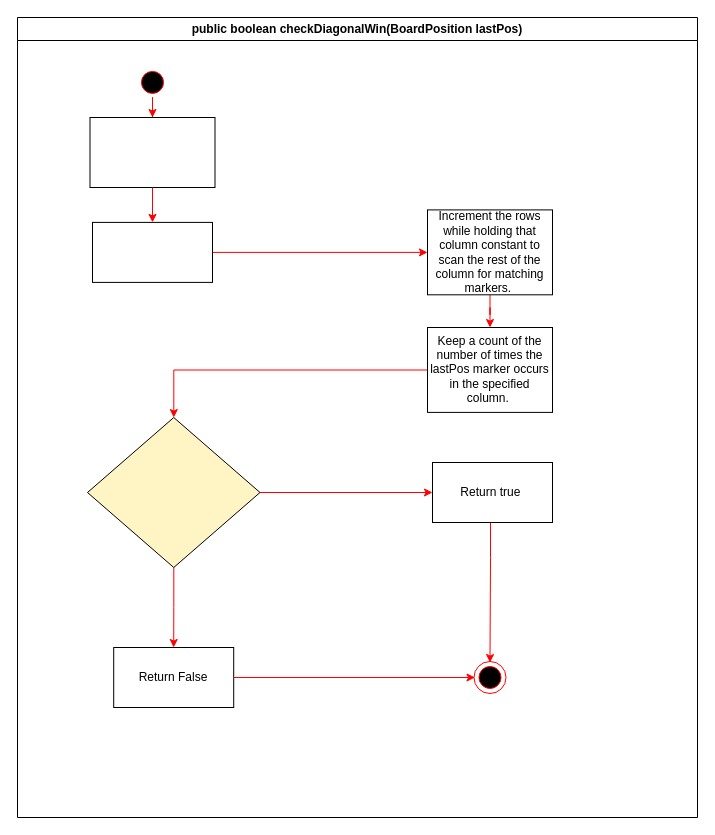
Some shapes in this 715 by 835 pixel diagram are drawn without their labels. The shapes that lost their labels are listed below. From the top down, each one's centre as x and y in pixels, then its label:
the point at 152,152: Check all edge spots to find an index with the same character as lastPos.
the point at 173,492: Does the column have 5 of the same marker as lastPos?
